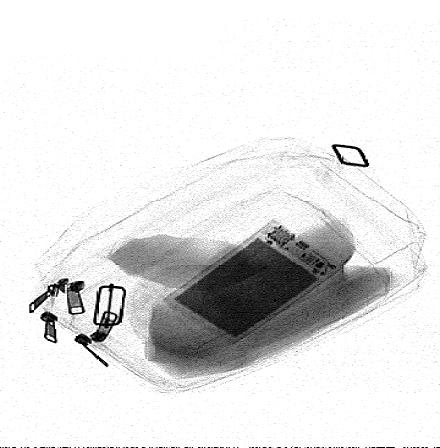Powerbank: (165, 218, 337, 345)
